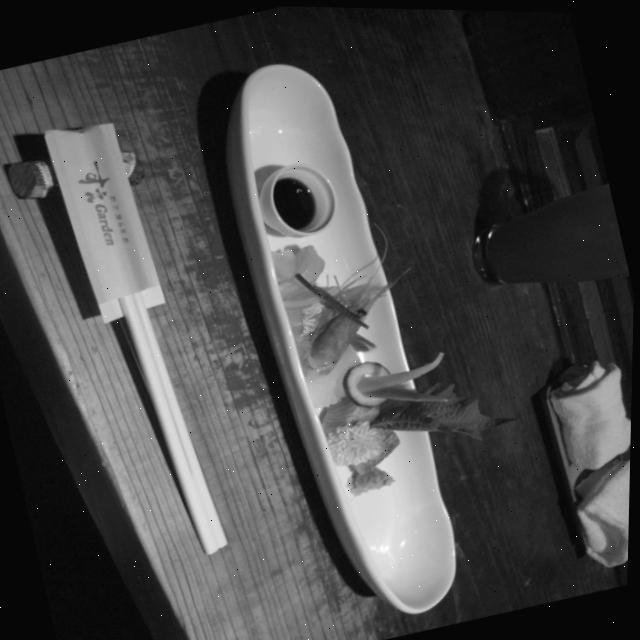刺身生食: (195, 167, 501, 514)
